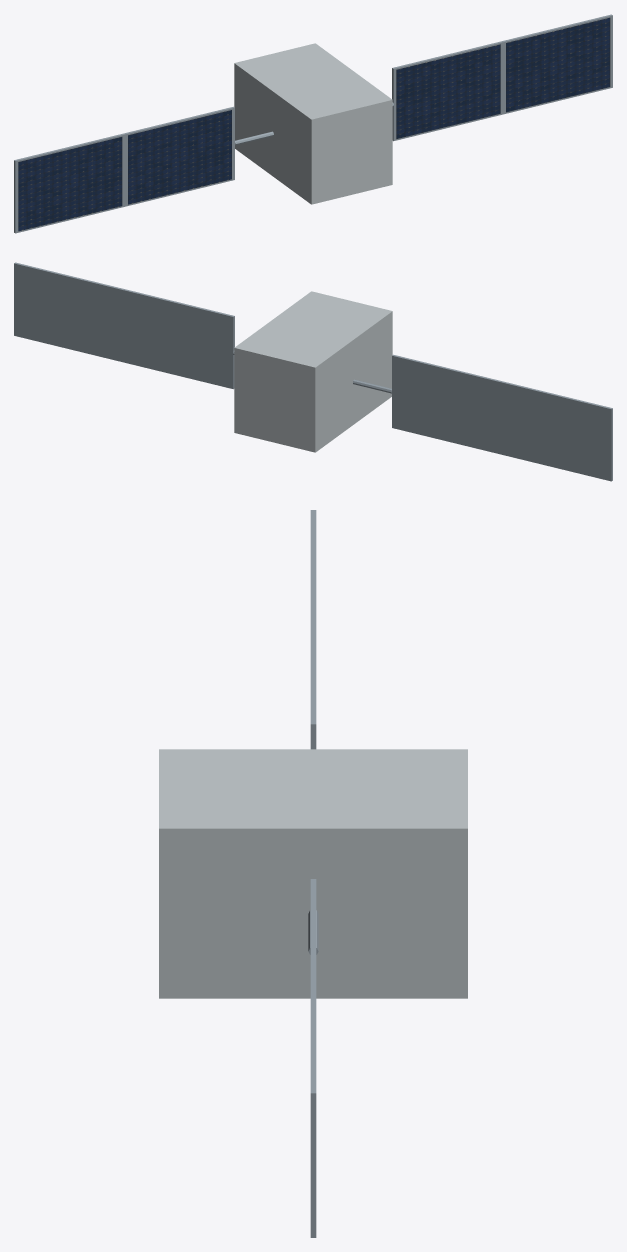
The model's file is ref-element-100901.glb.
3 views of the same model, one above another, from view 1: azimuth 30°, elevation 25°; view 2: azimuth 150°, elevation 25°; view 3: azimuth 270°, elevation 25° (orthographic). The views are drawn at different scales.
Parts seen in each view (by area): view 1: Photovoltaic laminates (×4), Spacecraft body, Array frame (×4); view 2: Array frame (×4), Spacecraft body; view 3: Spacecraft body, Array frame.
Boxes of the visible parts, <box> form: Photovoltaic laminates (×4): <box>18,17,610,231</box>; Spacecraft body: <box>234,43,392,204</box>; Array frame (×4): <box>14,14,612,233</box>; Array frame (×4): <box>14,262,612,481</box>; Spacecraft body: <box>234,291,392,452</box>; Spacecraft body: <box>159,749,467,998</box>; Array frame: <box>310,986,316,1237</box>.
Size of the model in its own units: 12.5 by 1.7 by 2.8.
3 materials, 1 textured.
